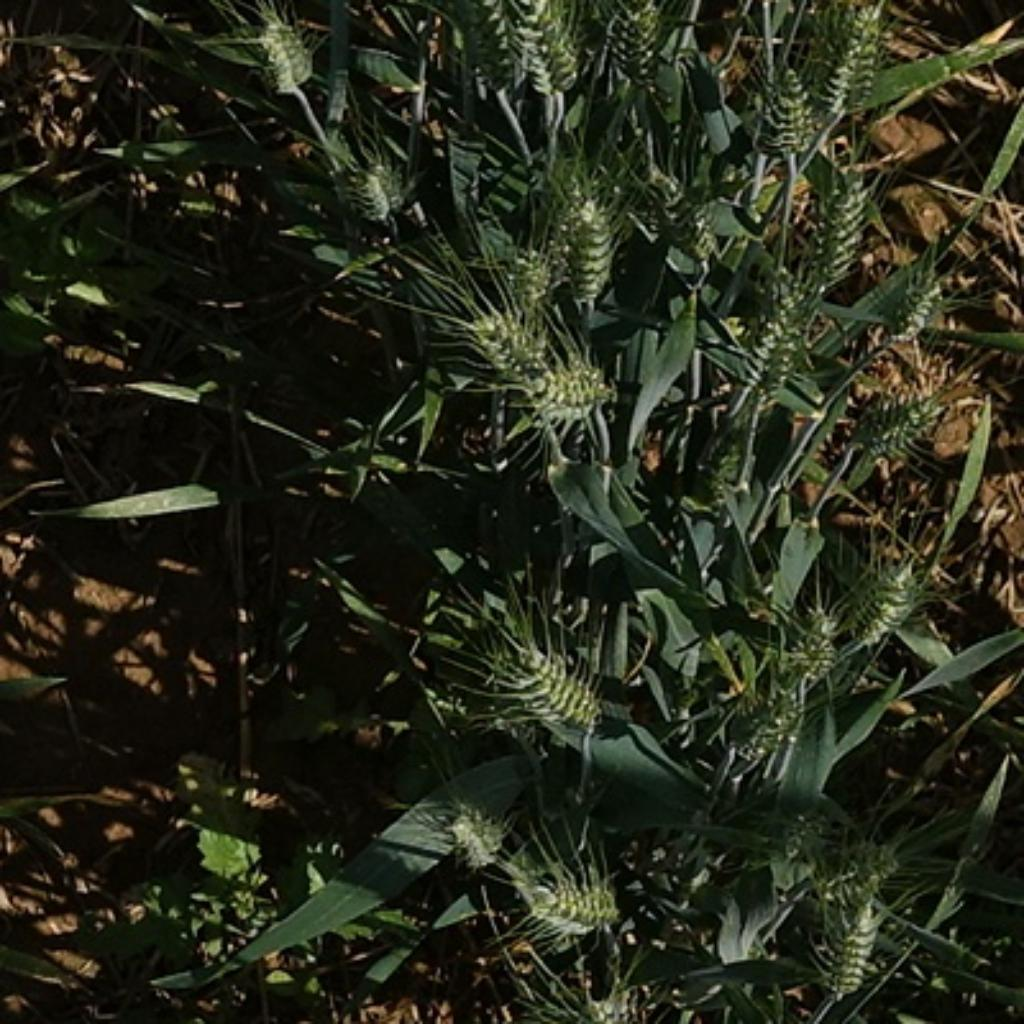0-0: (491, 641, 615, 746), (737, 263, 824, 391), (796, 153, 872, 284), (839, 545, 936, 642), (504, 860, 622, 939), (724, 664, 819, 760), (847, 374, 949, 463), (747, 46, 829, 151), (510, 0, 599, 96), (814, 2, 893, 107), (559, 189, 627, 309), (693, 412, 765, 522), (450, 0, 533, 94), (591, 1, 673, 94), (517, 348, 616, 422), (816, 893, 883, 1001), (472, 223, 563, 301), (800, 837, 900, 902), (463, 302, 536, 384), (781, 602, 852, 686), (254, 5, 317, 93), (440, 798, 512, 865), (883, 273, 947, 345), (666, 204, 727, 274), (343, 164, 409, 221)
